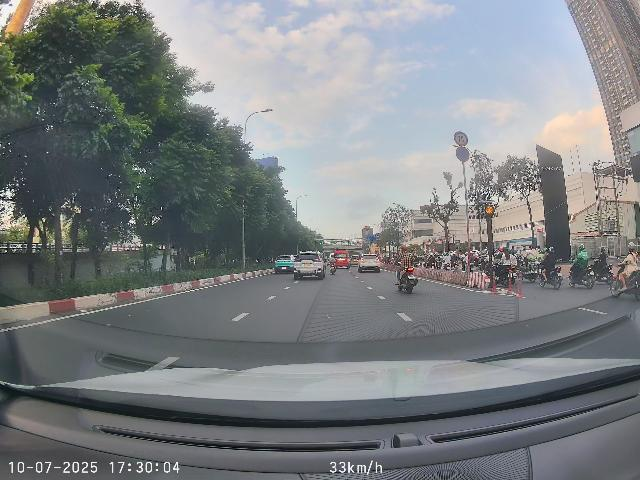127-toc-do-toi-da-70: (454, 131, 468, 146)
130-cam-dung-va-do-xe: (456, 147, 470, 162)
